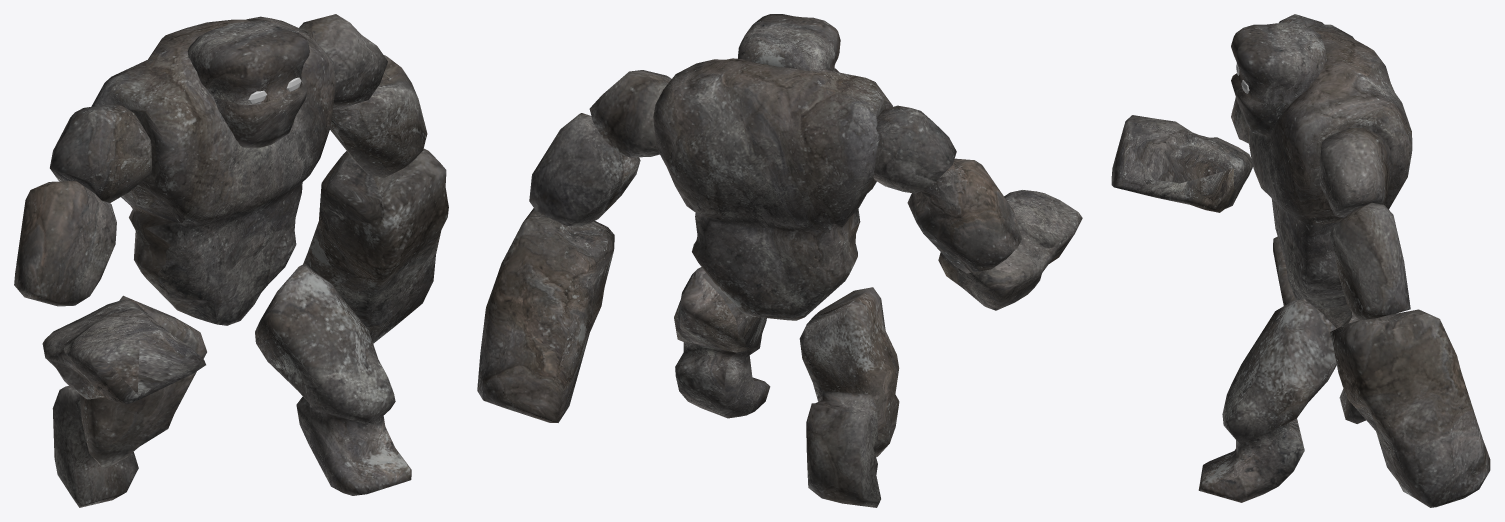
Rendered from walk_000015.obj.
3 views of the same model, side by side, from view 1: azimuth 30°, elevation 25°; view 2: azimuth 150°, elevation 25°; view 3: azimuth 270°, elevation 25° (orthographic). The views are drawn at different scales.
Visible parts, largest first — view 1: hands&leg.001_ice.003, torso.001_ice.005, head.001_ice.004; view 2: hands&leg.001_ice.003, torso.001_ice.005, head.001_ice.004; view 3: hands&leg.001_ice.003, torso.001_ice.005, head.001_ice.004.
Part boxes in pixels (x1,y1,x2,y2): hands&leg.001_ice.003: (14,14,448,507); torso.001_ice.005: (91,16,336,325); head.001_ice.004: (187,20,309,147); hands&leg.001_ice.003: (477,70,1082,507); torso.001_ice.005: (653,58,892,320); head.001_ice.004: (738,14,840,72); hands&leg.001_ice.003: (1111,14,1490,507); torso.001_ice.005: (1247,24,1412,309); head.001_ice.004: (1231,22,1326,136).
Bounding box in the file's own units: 10.65 × 9.57 × 7.63.
Materials: 2 (1 with a texture image).
